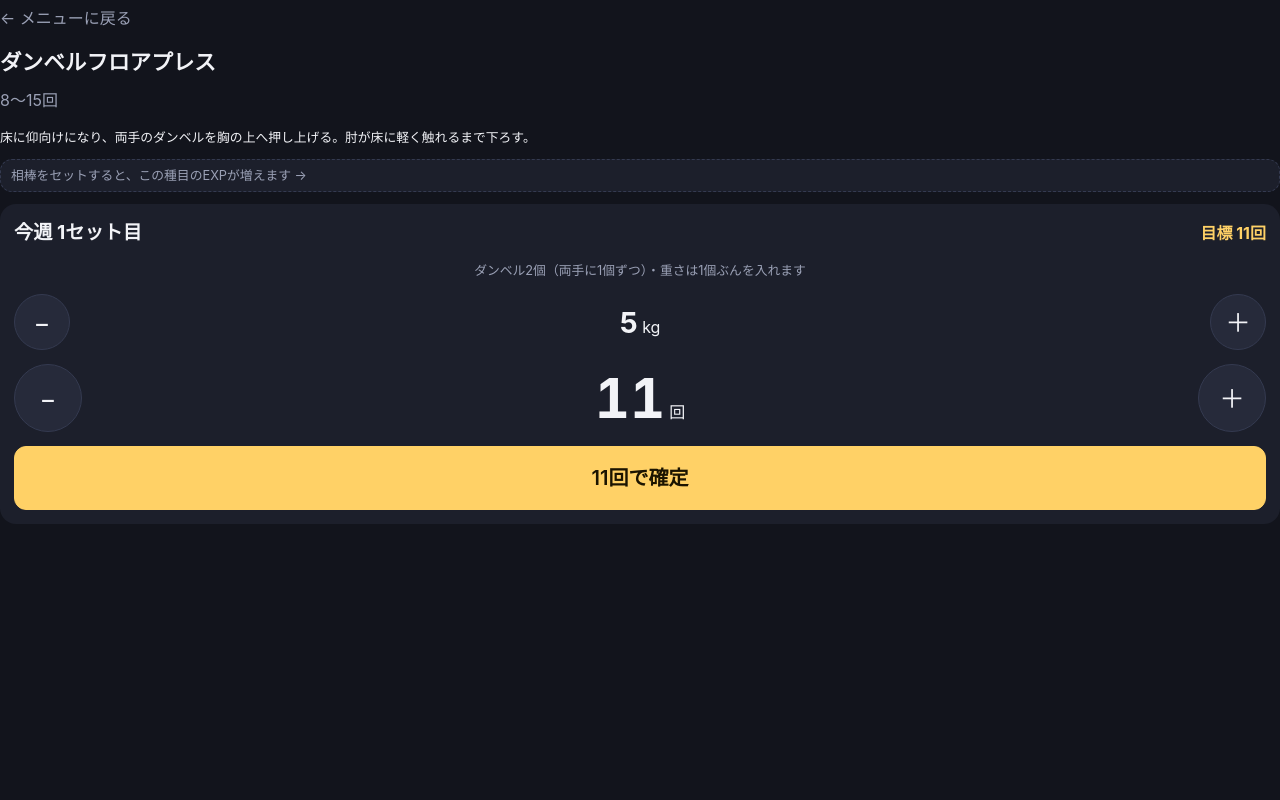
Test: 画面の表示 › セット入力：目標が入っていて1タップで確定、前回超えの演出が出る
This screenshot has width=1280, height=800.
Click the button "11回で確定". click: (640, 478)
box: [14,446,1266,510]
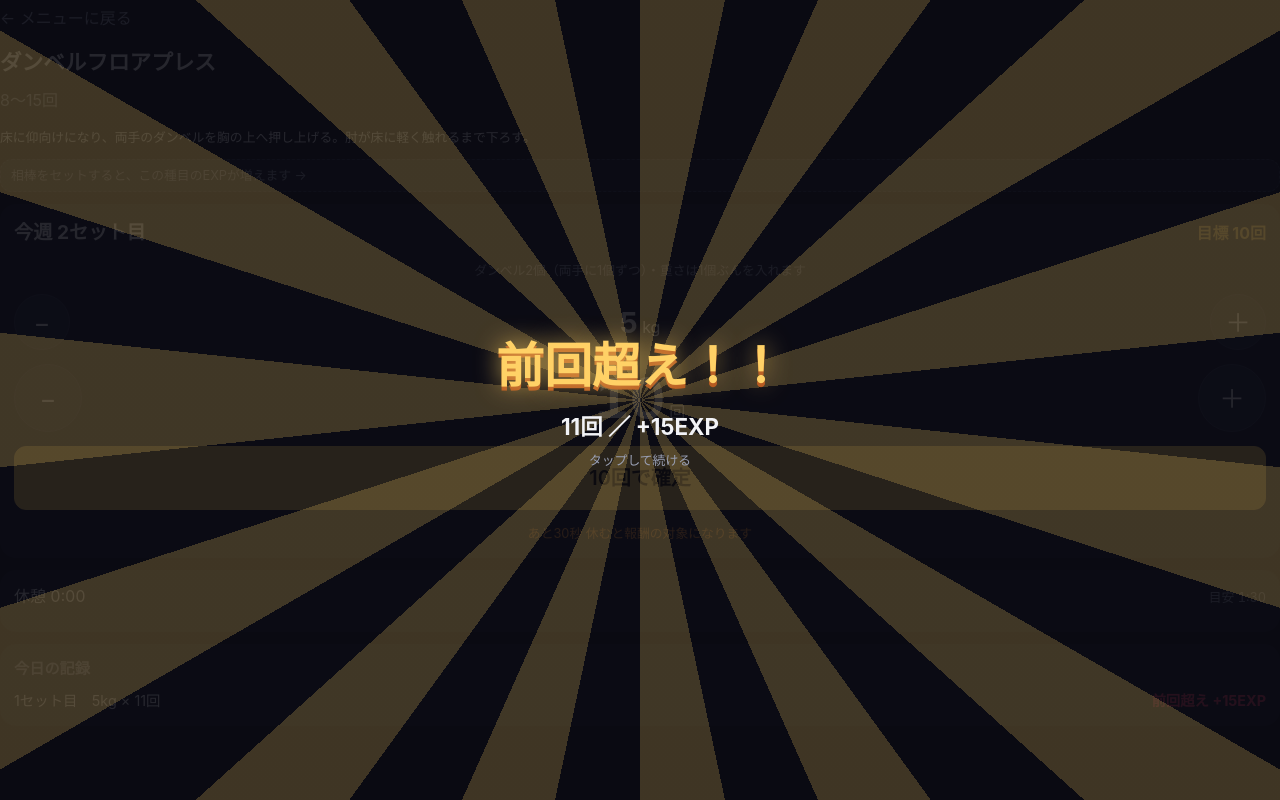
Now the text "前回超え！！" is shown, box [496,330,784,402]
Now the text "今週 2セット目" is shown, box [14,218,146,247]
Now the text "休むと報酬の対象になります" is shown, box [569,526,752,541]
